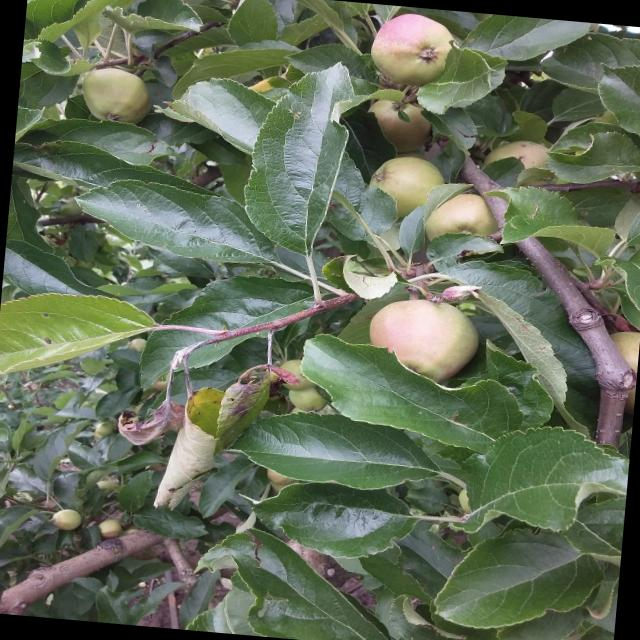-FireBlight-: (116, 394, 188, 446)
